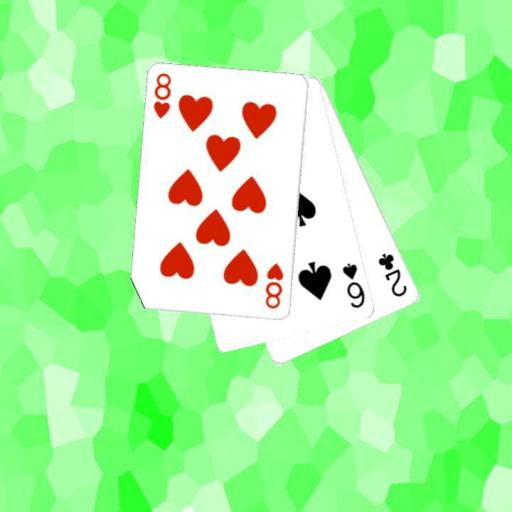2C: (375, 250, 409, 299)
6S: (339, 260, 367, 310)
8H: (263, 260, 286, 311), (150, 71, 173, 121)
